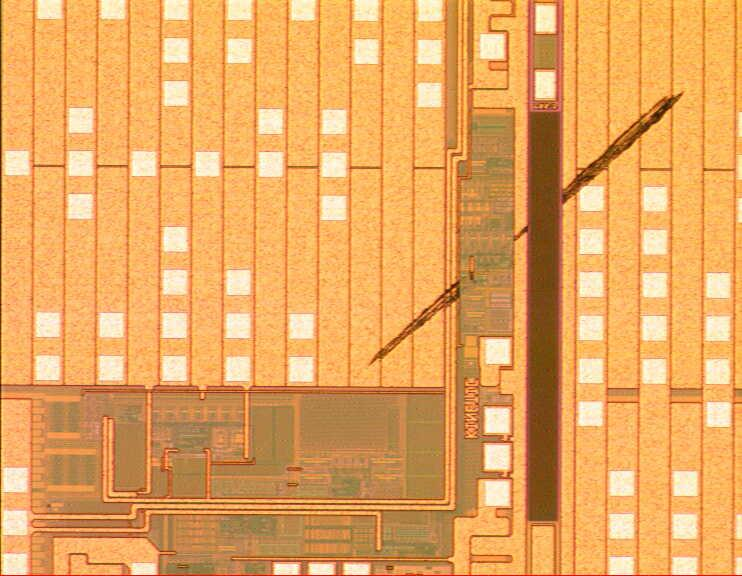SCRATCH: (362, 83, 691, 377)
